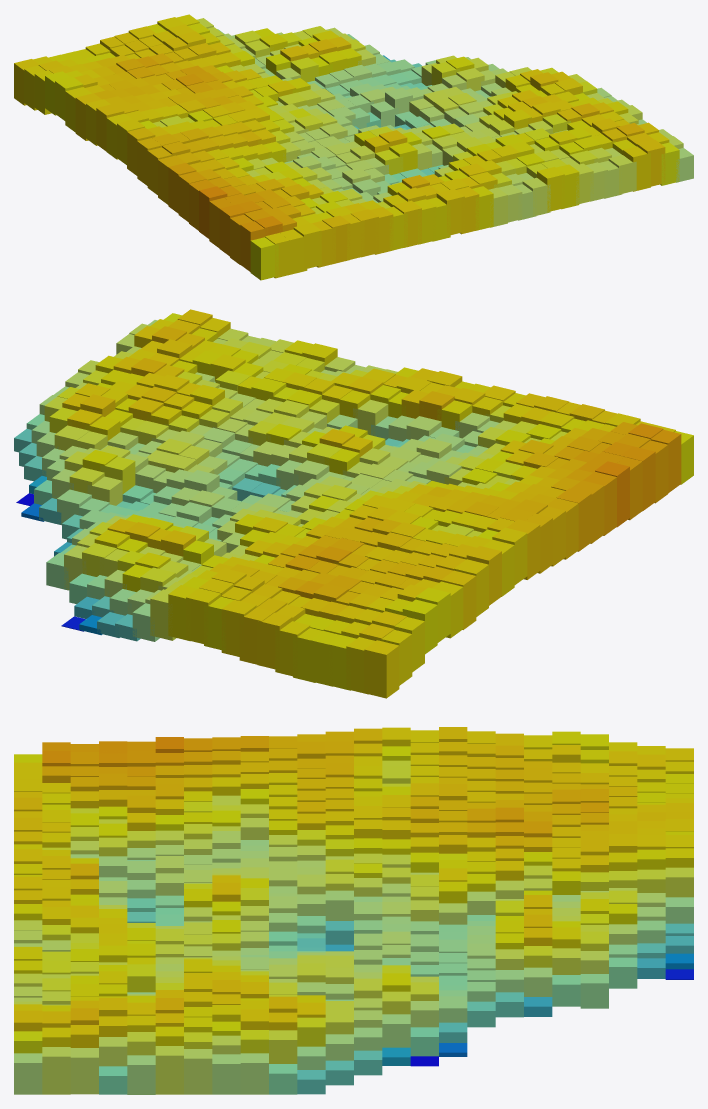
Rendered from population.glb.
3 views of the same model, one above another, from view 1: azimuth 30°, elevation 25°; view 2: azimuth 150°, elevation 25°; view 3: azimuth 270°, elevation 25° (orthographic). The views are drawn at different scales.
Visible parts, largest first — view 1: population; view 2: population; view 3: population.
Part boxes in pixels (x1,y1,x2,y2): population: (14, 14, 693, 280); population: (14, 309, 693, 698); population: (14, 727, 693, 1094).
Bounding box in the file's own units: 2423 × 317 × 2393.
